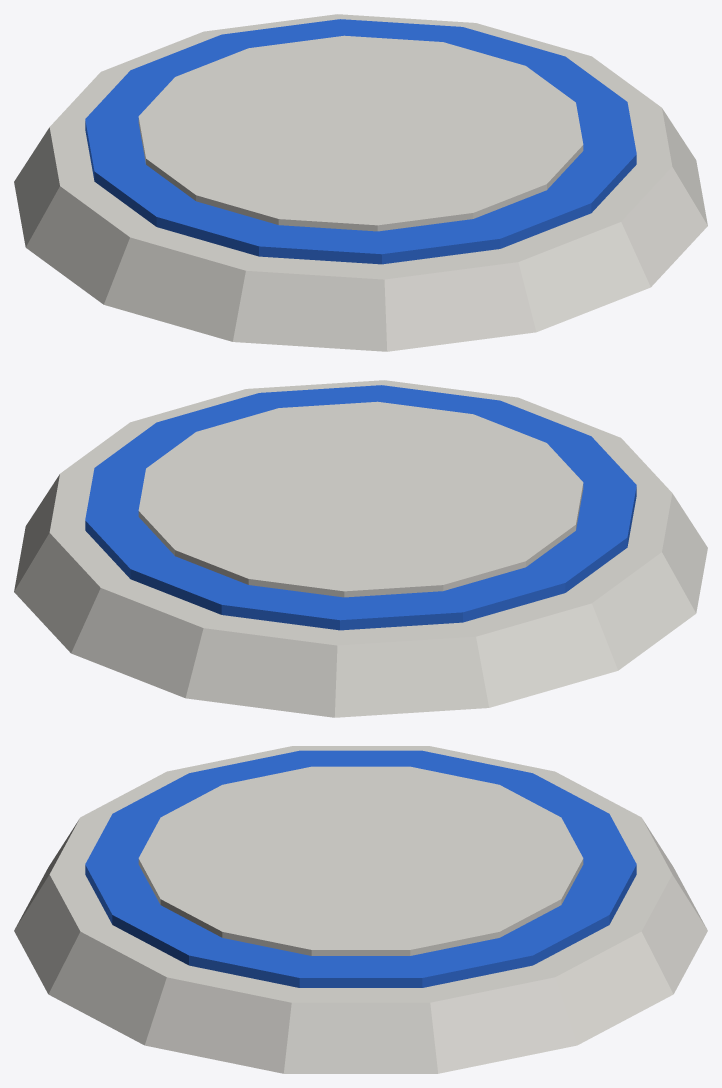
The model's file is slot.fbx.
3 renders of one model, top to bottom at view 1: azimuth 30°, elevation 25°; view 2: azimuth 150°, elevation 25°; view 3: azimuth 270°, elevation 25°, orthographic.
Parts seen in each view (by area): view 1: Pad; view 2: Pad; view 3: Pad.
Part boxes in pixels (x1=…): Pad: x1=14, y1=14, x2=707, y2=351; Pad: x1=14, y1=380, x2=707, y2=717; Pad: x1=14, y1=746, x2=707, y2=1073.
Size of the model in its own units: 1.52 by 0.18 by 1.56.
